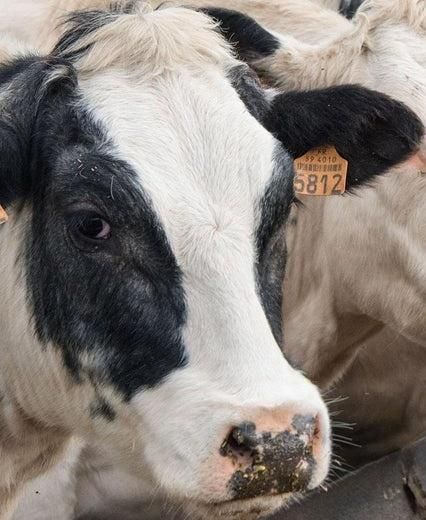muzzles: (149, 421, 349, 520)
